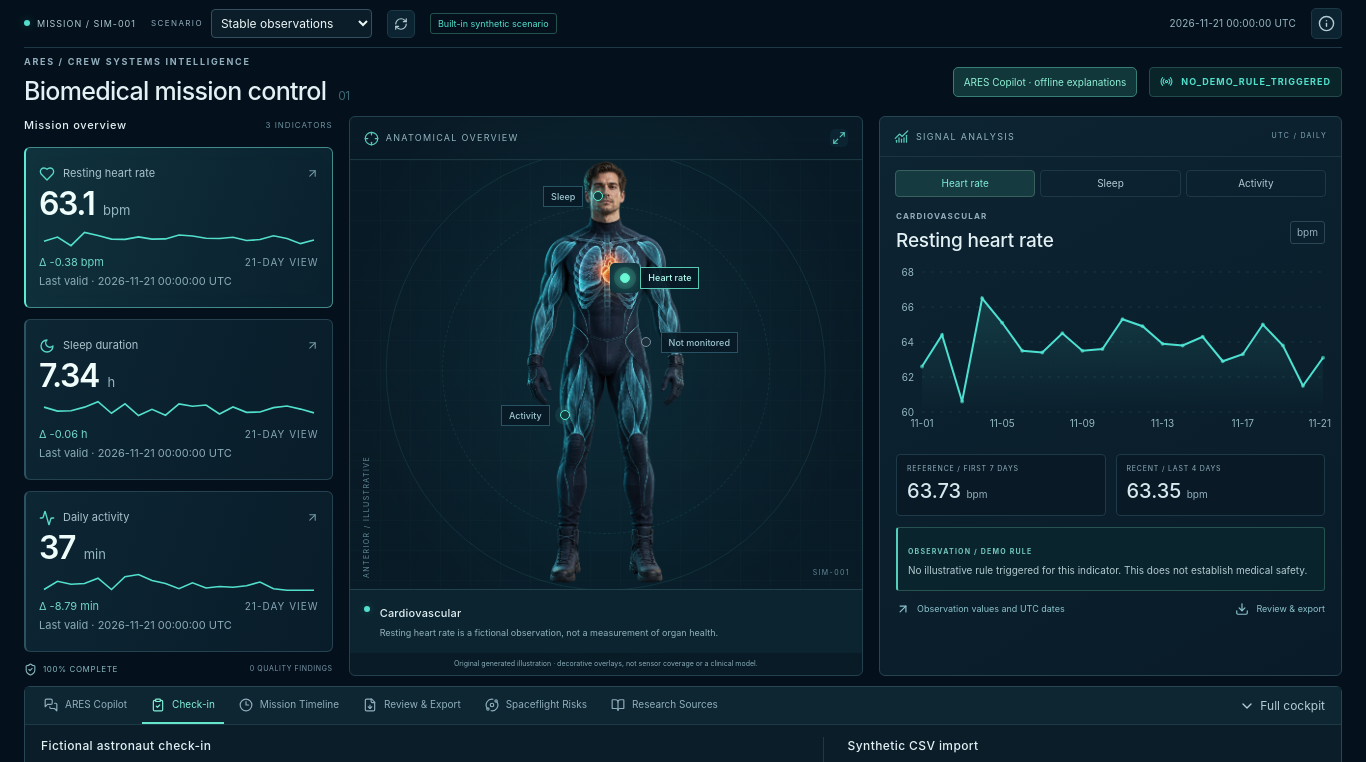
Test: shows incomplete observations as missing values, not zero or reconstructed statistics
Expected: the heading "Mission overview" is shown, [24,118,127,134]
Select "Incomplete records" in the dropdown named "Demo scenario" at (291, 24), box [211,9,372,38]
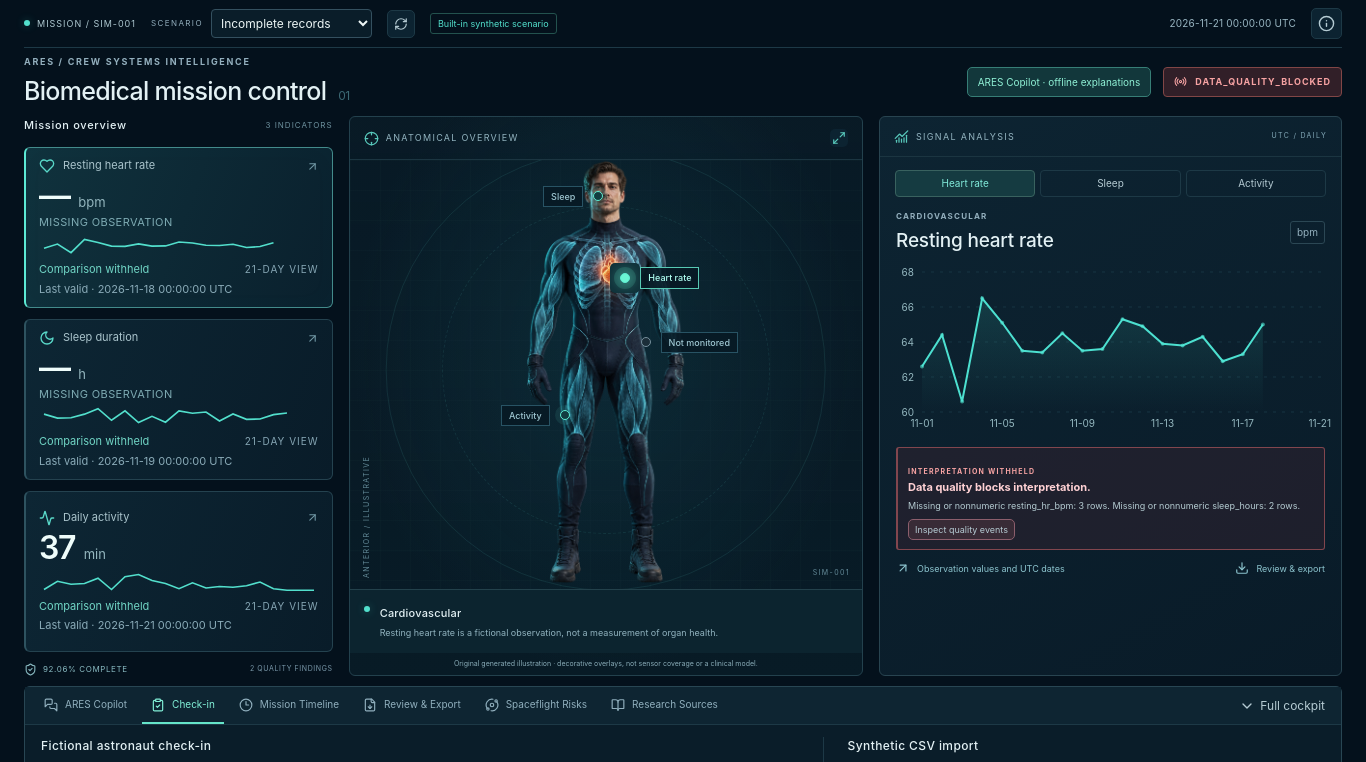
Now the text "Data quality blocks interpretation." is shown, box [908,480,1091,494]
Click the button "Observation values and UTC dates" at (980, 568), box [896,558,1065,578]
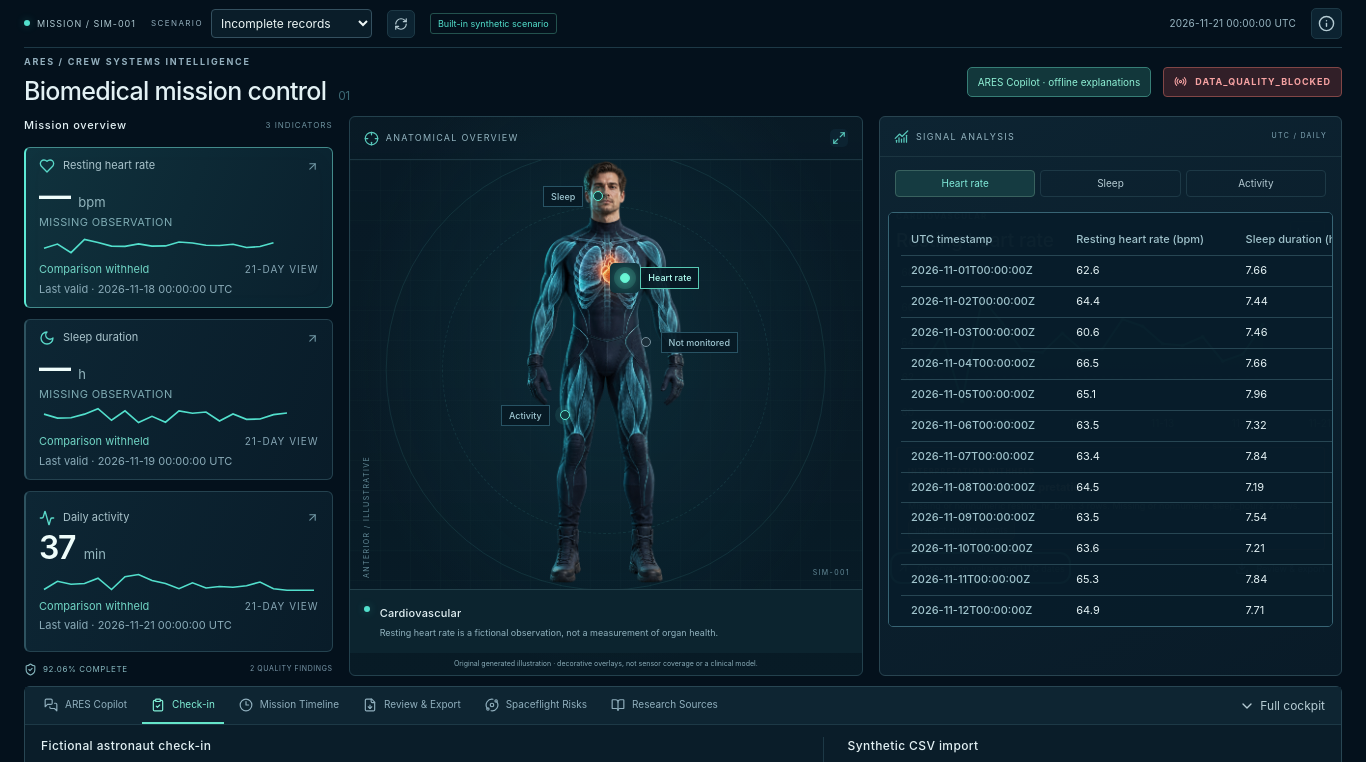
Click the tab "Mission Timeline" at (289, 706), box [230,687,348,724]
(page scrolled)
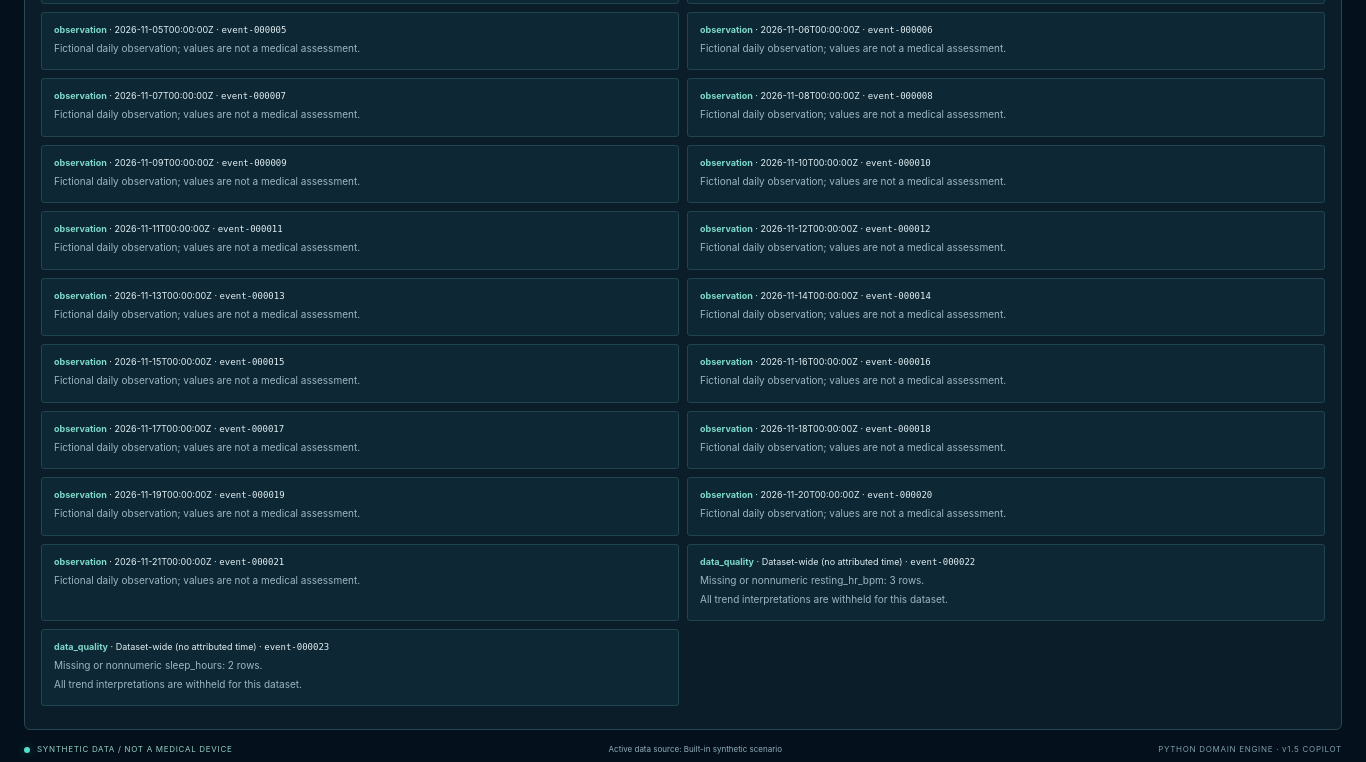
Now the text "All trend interpretations are withheld for this dataset." below "event-000022" is shown, box [700,592,948,604]
